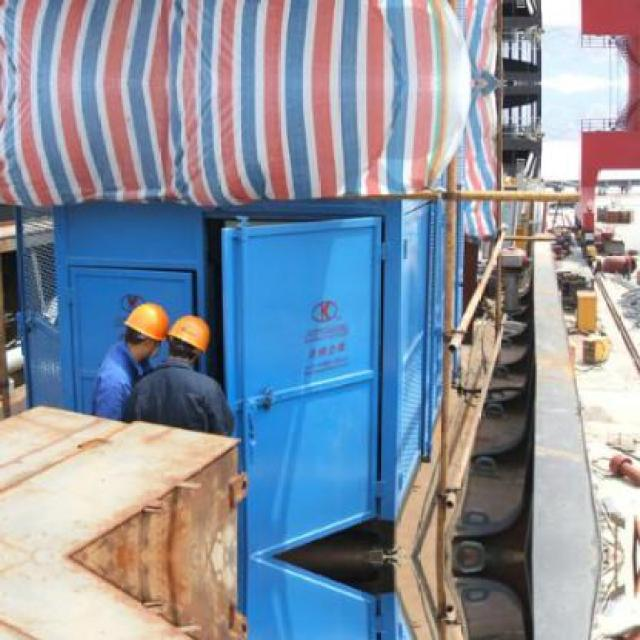helmet: (122, 299, 170, 360), (163, 312, 209, 365)
